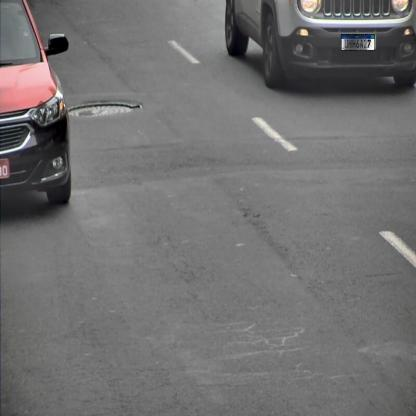PlacaM: (341, 34, 375, 51)
